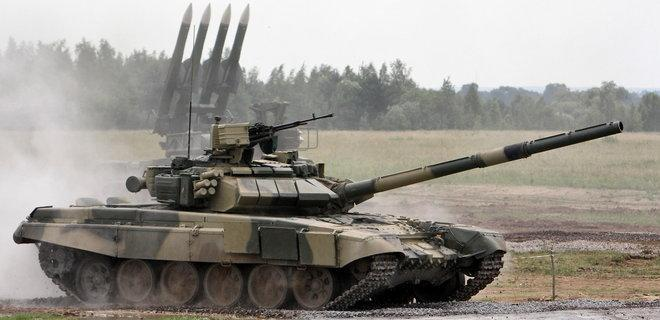rszo: (138, 5, 325, 153)
tank: (34, 116, 635, 320)
